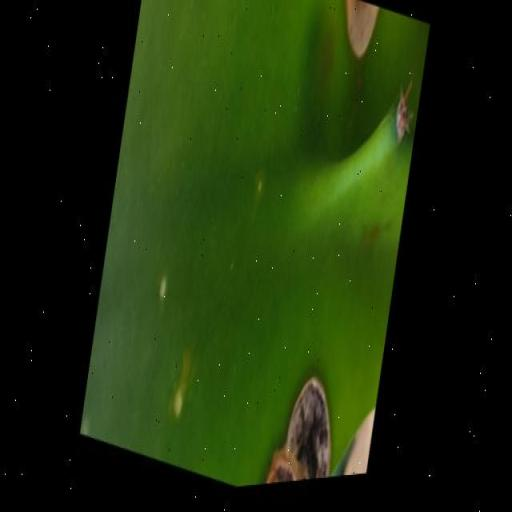stemcanker: (152, 270, 174, 310)
